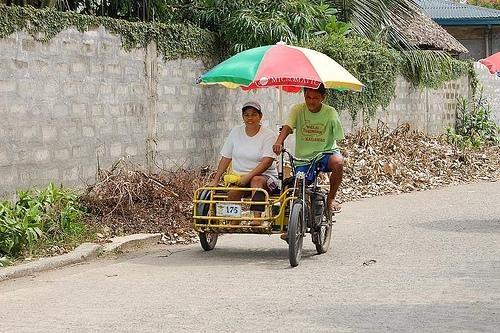bicycle: (280, 148, 336, 268)
